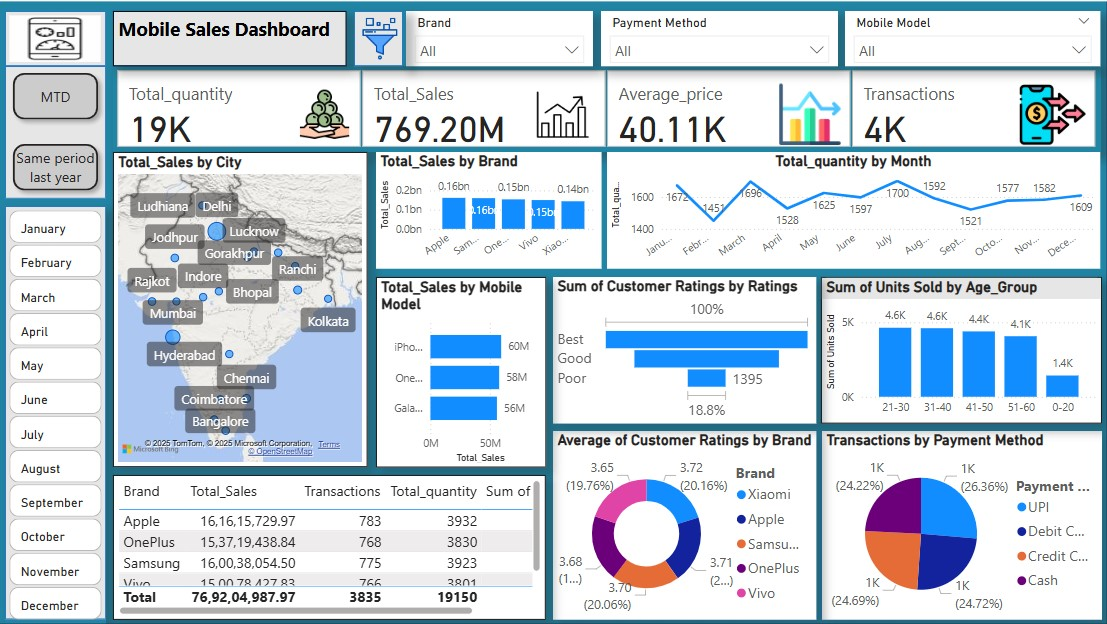

The dashboard page shown, as its layout file describes it:
{"tool":"powerbi","page":{"name":"Dashboard","canvas":[1280,720],"ordinal":0},"visuals":[{"type":"image","box":[0,0,1280,720],"z":0},{"type":"shape","box":[15.1,238.4,115.1,470.9],"z":1000},{"type":"shape","box":[138,177,290,300],"z":2000},{"type":"shape","box":[639.5,494.2,300,215.1],"z":3000},{"type":"shape","box":[944.2,494.2,319.8,215.1],"z":4000},{"type":"advancedSlicerVisual","fields":{"Values":["Custom_calandar.Column1.Variation.Date Hierarchy.Month"]},"box":[15.1,238.4,115.1,476.7],"z":5000},{"type":"shape","box":[15.1,16.3,115.1,62.8],"z":6000},{"type":"shape","box":[15.1,79.1,115.1,151.2],"z":7000},{"type":"cardVisual","fields":{"Data":["Sales_Data.Total_quantity","Sales_Data.Total_Sales","Sales_Data.Average_price","Sales_Data.Transactions"]},"box":[138.4,79.1,1125.6,97.7],"z":8000},{"type":"slicer","fields":{"Values":["Sales_Data.Brand"]},"box":[472.1,16.3,212.8,62.8],"z":9000},{"type":"slicer","fields":{"Values":["Sales_Data.Payment Method"]},"box":[694.2,16.3,269.8,62.8],"z":10000},{"type":"slicer","fields":{"Values":["Sales_Data.Mobile Model"]},"box":[972.1,16.3,290.7,62.8],"z":11000},{"type":"image","box":[15.1,16.3,114,62.8],"z":12000},{"type":"shape","box":[138.4,16.3,266.3,62.8],"z":13000},{"type":"textbox","box":[138.4,16.3,266.3,62.8],"z":14000},{"type":"shape","box":[412.8,16.3,55.8,62.8],"z":15000},{"type":"image","box":[412.8,16.3,59.3,62.8],"z":16000},{"type":"lineChart","fields":{"Y":["Sales_Data.Total_quantity"],"Category":["Custom_calandar.Column1.Variation.Date Hierarchy.Month"]},"box":[701.2,176.7,561.6,132.6],"z":17000},{"type":"map","fields":{"Category":["Sales_Data.City"],"Size":["Sales_Data.Total_Sales"]},"box":[138.4,176.7,289.5,359.3],"z":18000},{"type":"columnChart","fields":{"Y":["Sales_Data.Total_Sales"],"Category":["Sales_Data.Brand"]},"box":[437.2,176.7,257,132.6],"z":19000},{"type":"pieChart","fields":{"Y":["Sales_Data.Transactions"],"Category":["Sales_Data.Payment Method"]},"box":[945.3,494.2,318.6,215.1],"z":20000},{"type":"donutChart","fields":{"Category":["Sales_Data.Brand"],"Y":["Avg(Sales_Data.Customer Ratings)"]},"box":[639.5,494.2,300,215.1],"z":21000},{"type":"columnChart","fields":{"Category":["Sales_Data.Age_Group"],"Y":["Sum(Sales_Data.Units Sold)"]},"box":[944.2,318.6,319.8,167.4],"z":22000},{"type":"funnel","fields":{"Category":["Sales_Data.Ratings"],"Y":["Sum(Sales_Data.Customer Ratings)"]},"box":[639.5,318.6,300,167.4],"z":23000},{"type":"barChart","fields":{"Y":["Sales_Data.Total_Sales"],"Category":["Sales_Data.Mobile Model"]},"box":[437.2,318.6,194.2,217.4],"z":24000},{"type":"tableEx","fields":{"Values":["Sales_Data.Brand","Sales_Data.Total_Sales","Sales_Data.Transactions","Sales_Data.Total_quantity","Sum(Sales_Data.Units Sold)"]},"box":[138.4,544.2,493,165.1],"z":25000},{"type":"pageNavigator","box":[15.1,77.9,115.1,152.3],"z":26000}]}

Visuals, with their boxes in screenshot pixels (x1, y1, x2, y2), scaled from the page's 1280x720 canvas onto the 1107x624 screenshot:
image: (0,0,1106,623)
shape: (13,207,113,615)
shape: (119,153,370,413)
shape: (553,428,813,615)
shape: (817,428,1093,615)
advancedSlicerVisual - Custom_calandar.Column1.Variation.Date Hierarchy.Month: (13,207,113,620)
shape: (13,14,113,69)
shape: (13,69,113,200)
cardVisual - Sales_Data.Total_quantity x Sales_Data.Total_Sales: (120,69,1093,153)
slicer - Sales_Data.Brand: (408,14,592,69)
slicer - Sales_Data.Payment Method: (600,14,834,69)
slicer - Sales_Data.Mobile Model: (841,14,1092,69)
image: (13,14,112,69)
shape: (120,14,350,69)
textbox: (120,14,350,69)
shape: (357,14,405,69)
image: (357,14,408,69)
lineChart - Sales_Data.Total_quantity x Custom_calandar.Column1.Variation.Date Hierarchy.Month: (606,153,1092,268)
map - Sales_Data.City x Sales_Data.Total_Sales: (120,153,370,465)
columnChart - Sales_Data.Total_Sales x Sales_Data.Brand: (378,153,600,268)
pieChart - Sales_Data.Transactions x Sales_Data.Payment Method: (818,428,1093,615)
donutChart - Sales_Data.Brand x Avg(Sales_Data.Customer Ratings): (553,428,813,615)
columnChart - Sales_Data.Age_Group x Sum(Sales_Data.Units Sold): (817,276,1093,421)
funnel - Sales_Data.Ratings x Sum(Sales_Data.Customer Ratings): (553,276,813,421)
barChart - Sales_Data.Total_Sales x Sales_Data.Mobile Model: (378,276,546,465)
tableEx - Sales_Data.Brand x Sales_Data.Total_Sales: (120,472,546,615)
pageNavigator: (13,68,113,200)
